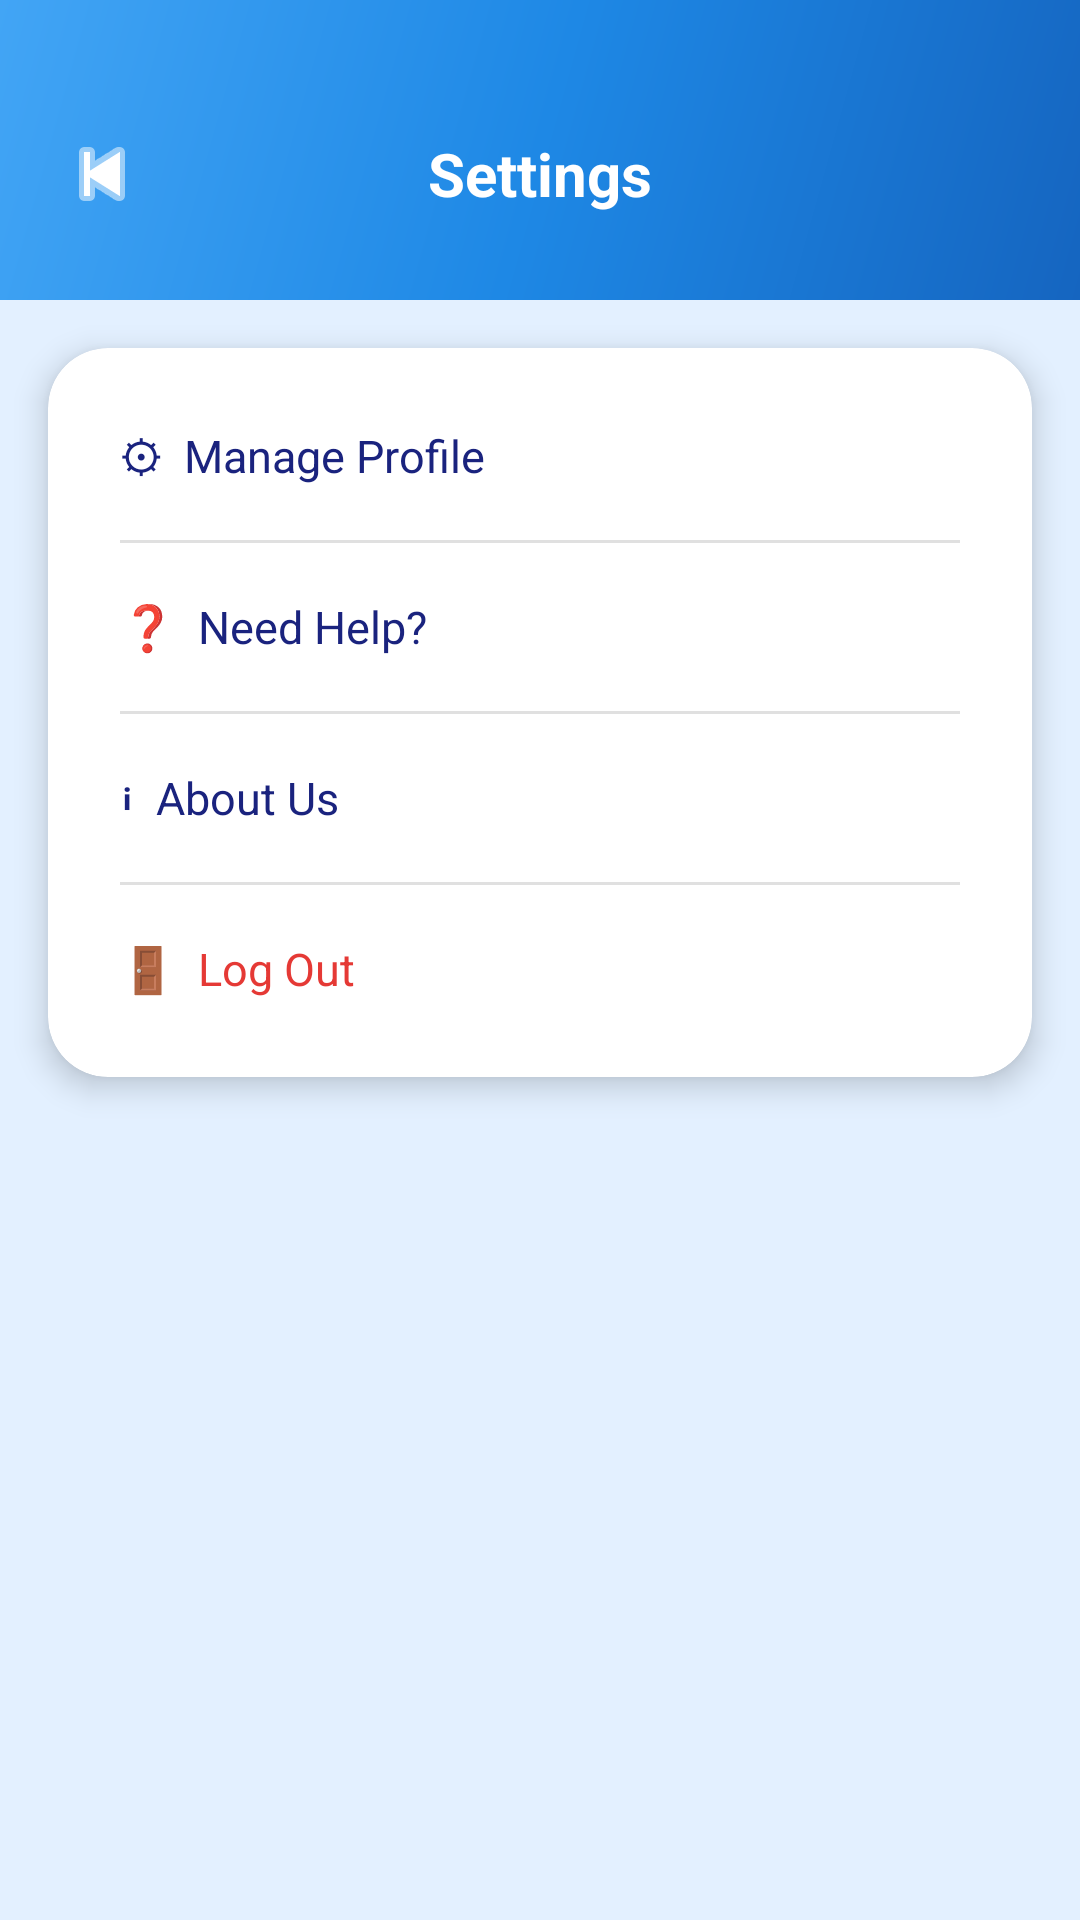

Point at icon controls on the screen. Image size 1080*1920, points as (x,y).
previous: (102,174)
